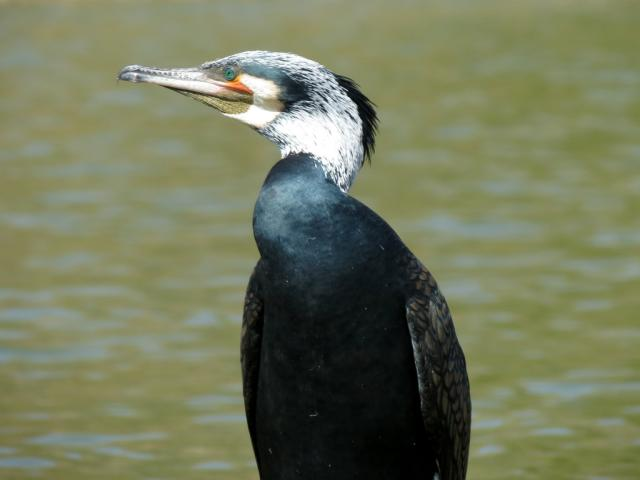Bird: (120, 49, 466, 480)
